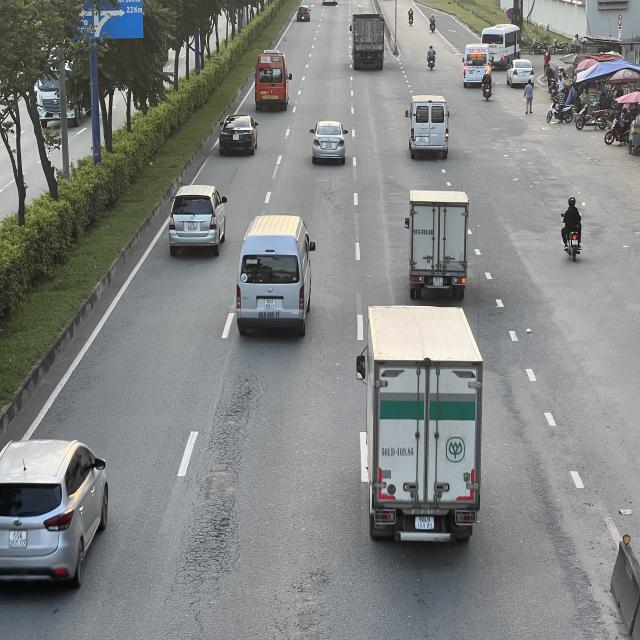car: (0, 438, 113, 588), (169, 183, 231, 256), (217, 113, 260, 157), (309, 121, 351, 165), (506, 59, 536, 84), (294, 3, 314, 23)
coach: (252, 47, 292, 110), (481, 26, 525, 64)
truck: (356, 302, 482, 547), (403, 188, 469, 300), (349, 12, 386, 72)
van: (235, 214, 315, 334), (402, 94, 451, 159), (461, 42, 491, 87)
